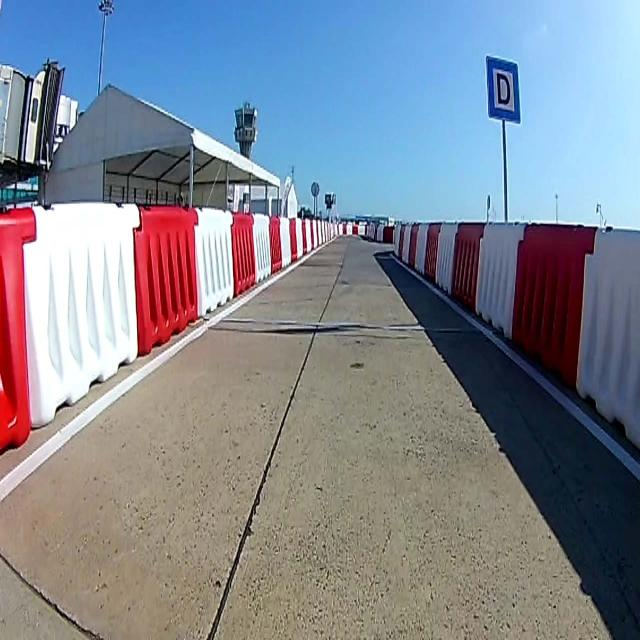durak: (486, 54, 519, 123)
